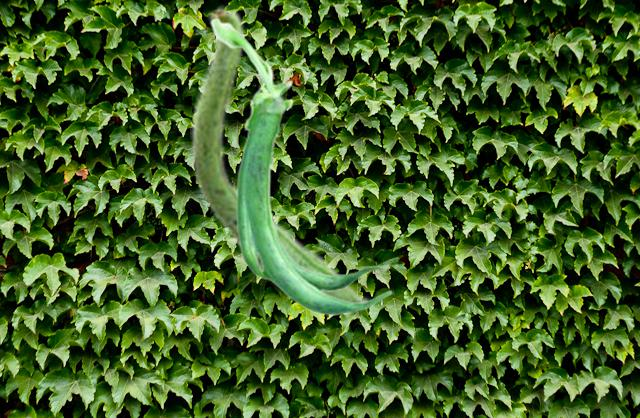french_bean: (190, 3, 370, 314), (209, 17, 392, 315)
